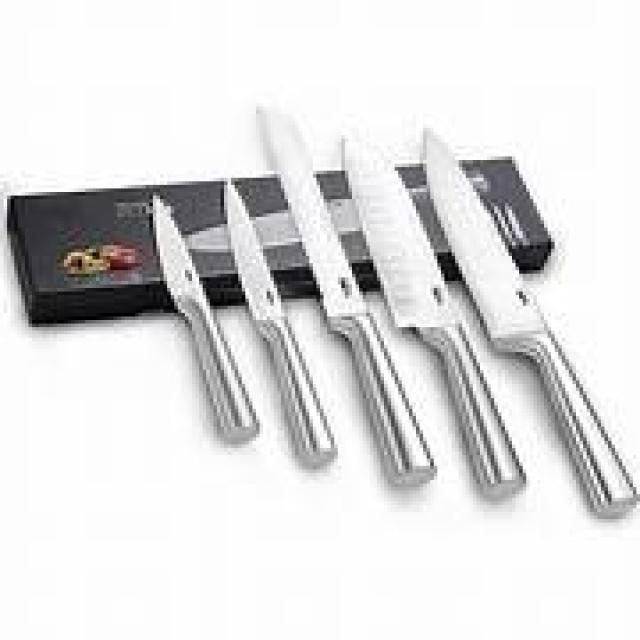Knife: (427, 132, 633, 508), (260, 110, 430, 480), (345, 139, 523, 491), (228, 181, 334, 462), (156, 196, 256, 437)
